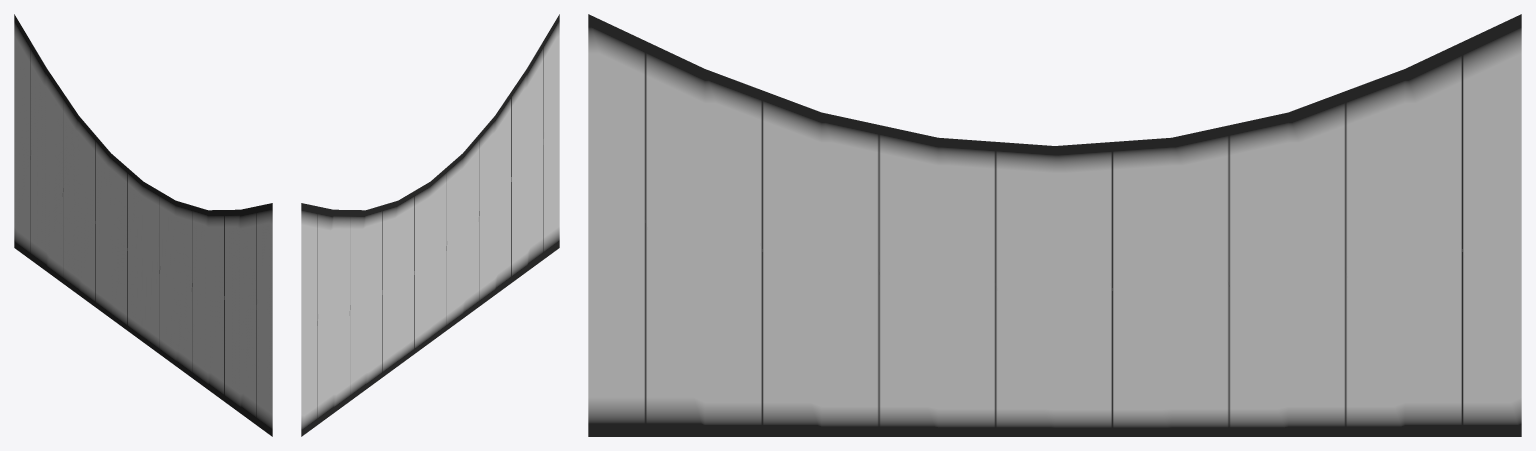
Rendered from wirebase.obj.
The picture shows the model from 3 angles, left to right: view 1: azimuth 30°, elevation 25°; view 2: azimuth 150°, elevation 25°; view 3: azimuth 270°, elevation 25°; orthographic projection. The views are drawn at different scales.
Visible parts, largest first — view 1: 平面; view 2: 平面; view 3: 平面.
Boxes of the visible parts, <box> form: 平面: <box>14,14,272,436</box>; 平面: <box>301,14,559,436</box>; 平面: <box>588,14,1521,436</box>.
Size of the model in its own units: 0 by 1 by 2.
Materials: 1 (1 with a texture image).
